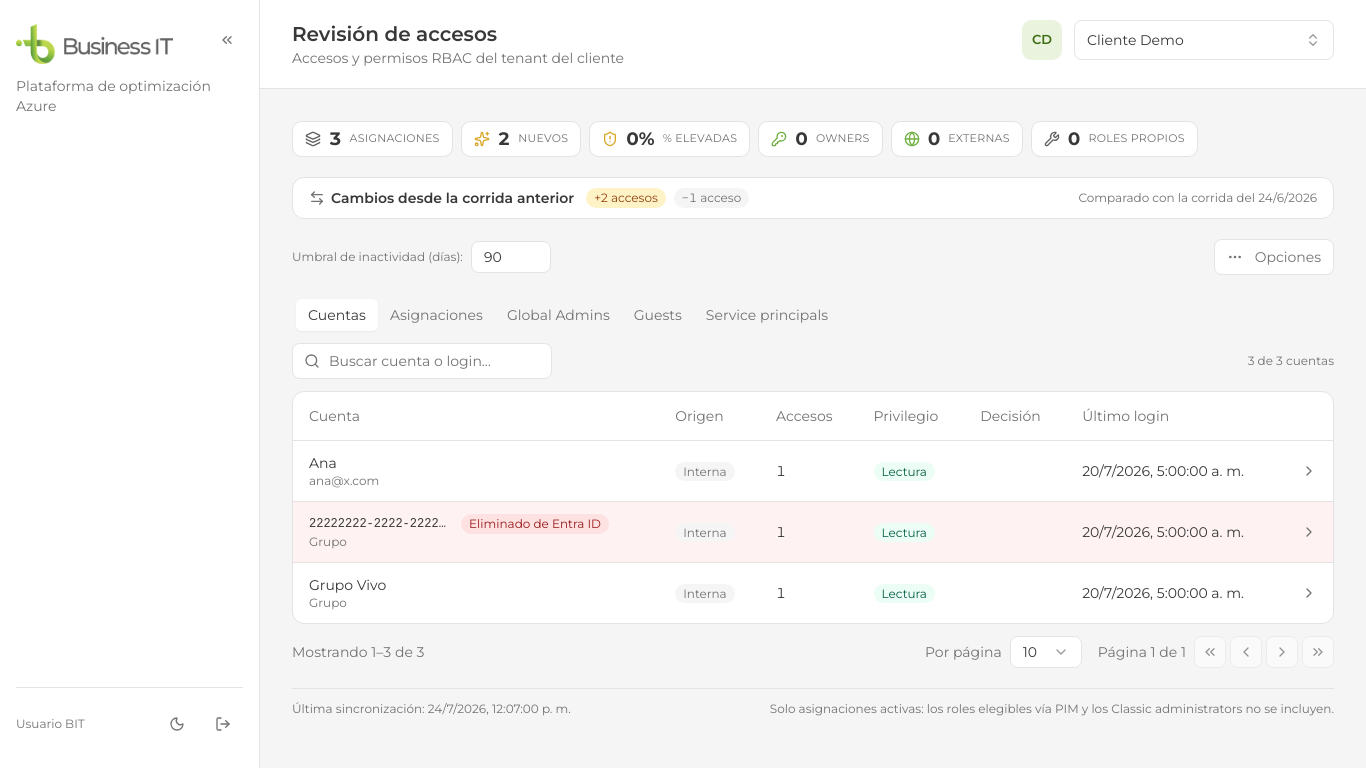
Test case: el filtro 'Solo elevados' descarta las asignaciones de lectura
The width and height of the screenshot is (1366, 768).
Press the mouse on the tab "Asignaciones" at point(436, 315), box [378,299,495,331]
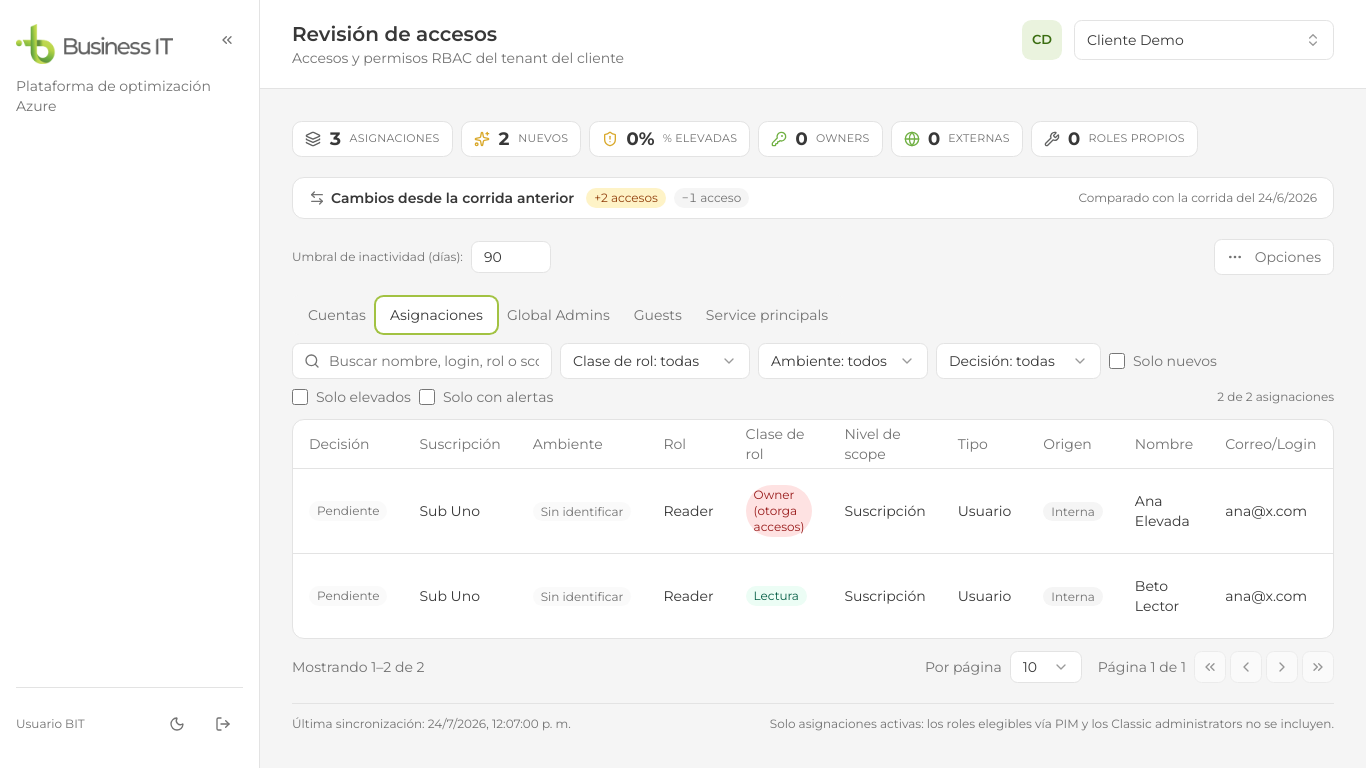
Check: the text "Beto Lector" is shown, box [1135,576,1179,614]
Click the checkbox labelled "Solo elevados". click: point(300, 397)
box: [292,389,308,405]
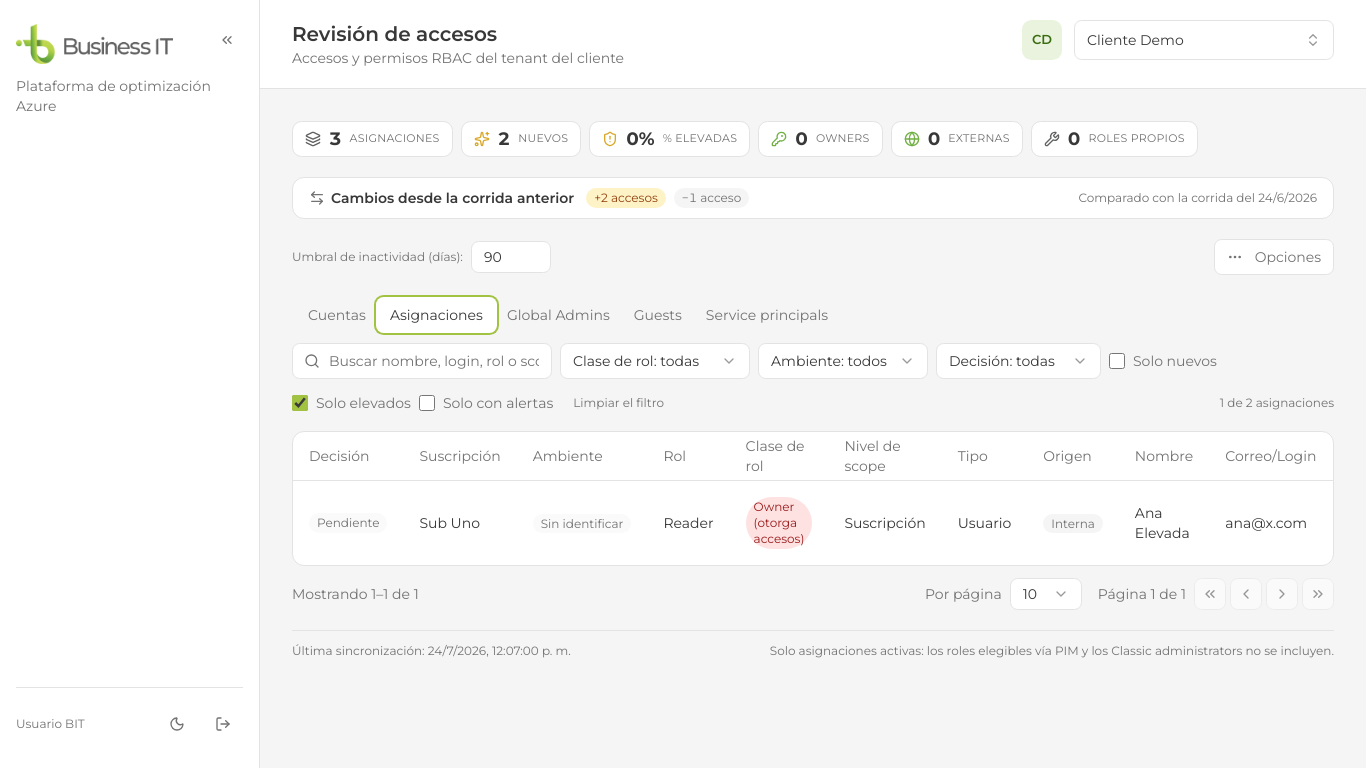
Check: the text "Ana Elevada" is shown, box [1135,504,1190,542]
Check: the text "Beto Lector" is gone
